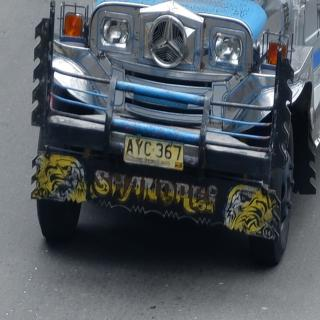license: (125, 137, 185, 172)
